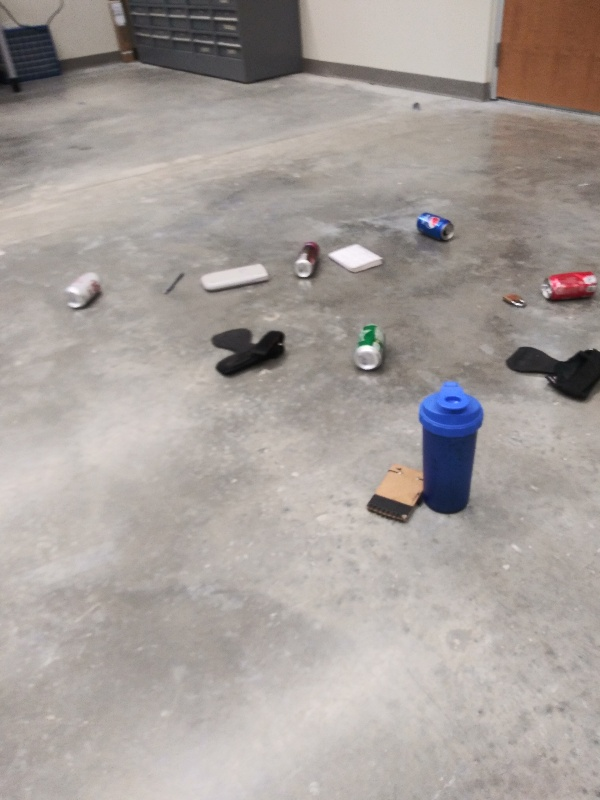can: (537, 268, 600, 307), (58, 267, 109, 311), (349, 321, 388, 374), (291, 236, 327, 283), (411, 210, 459, 244)
